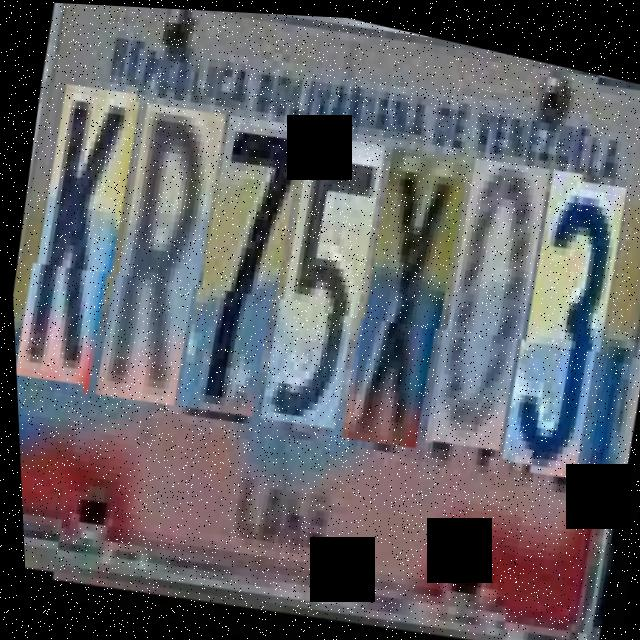3: (492, 164, 636, 485)
5: (252, 127, 394, 440)
7: (170, 108, 314, 428)
K: (5, 83, 150, 403)
O: (415, 152, 558, 465)
R: (87, 95, 235, 416)
X: (332, 141, 476, 460)
